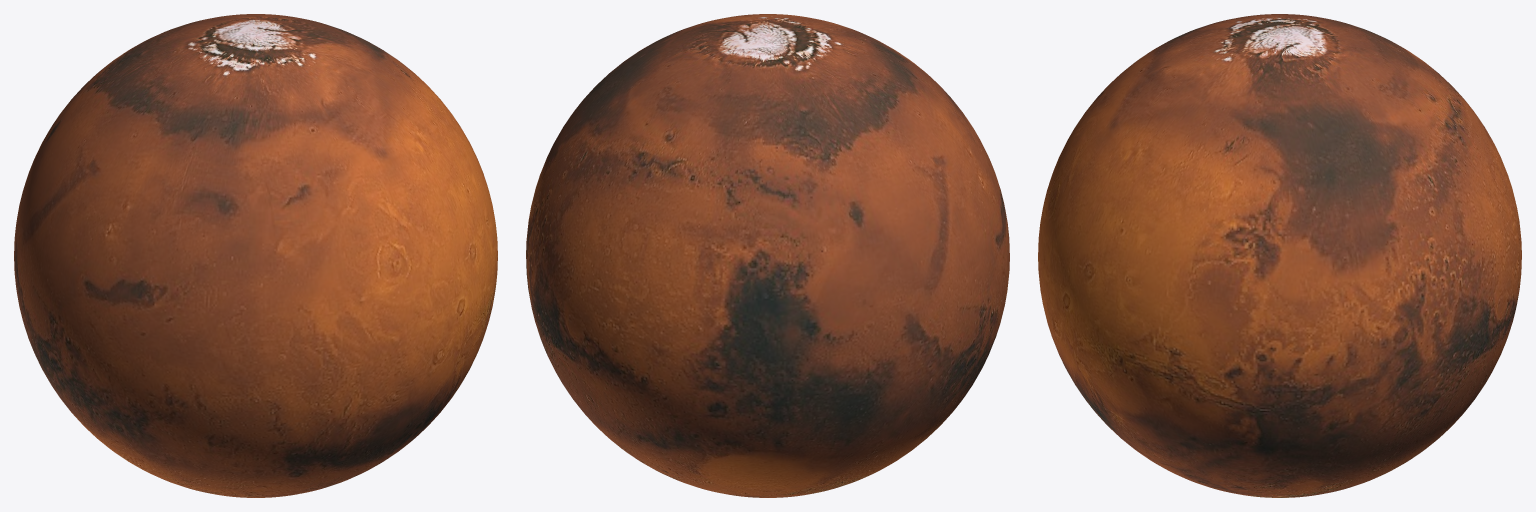
File: mars.FBX
The picture shows the model from 3 angles, left to right: view 1: azimuth 30°, elevation 25°; view 2: azimuth 150°, elevation 25°; view 3: azimuth 270°, elevation 25°; orthographic projection.
Visible parts, largest first — view 1: Atmosphere; view 2: Atmosphere; view 3: Atmosphere.
Boxes of the visible parts, x1=… form: Atmosphere: x1=14, y1=14, x2=497, y2=497; Atmosphere: x1=526, y1=14, x2=1009, y2=497; Atmosphere: x1=1038, y1=14, x2=1521, y2=497.
Bounding box in the file's own units: 148 × 148 × 148.
1 material, 1 textured.
